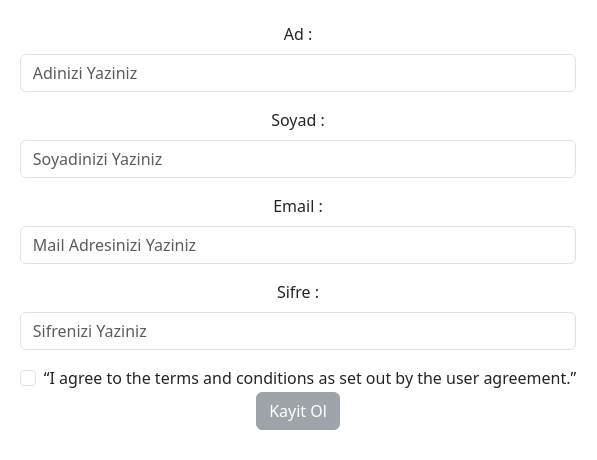
Test: Tests for Login Page › Error Messages › Email input not pass to test for invalid email address
Type "deneme@" into the field with test id "email-input". click: (299,245)
box: [20, 226, 577, 264]
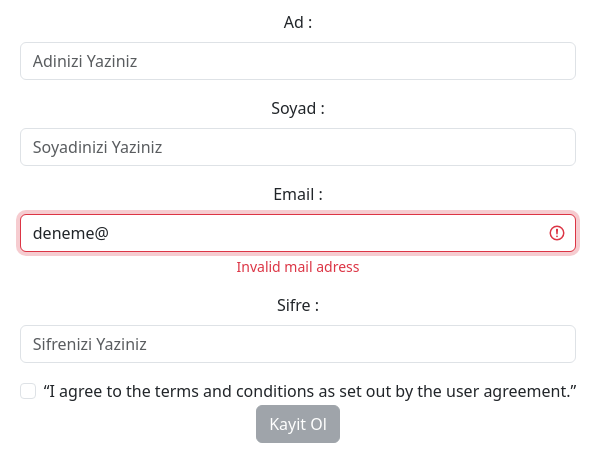
Expected: the text "Invalid mail adress" is shown, [236, 256, 359, 276]
